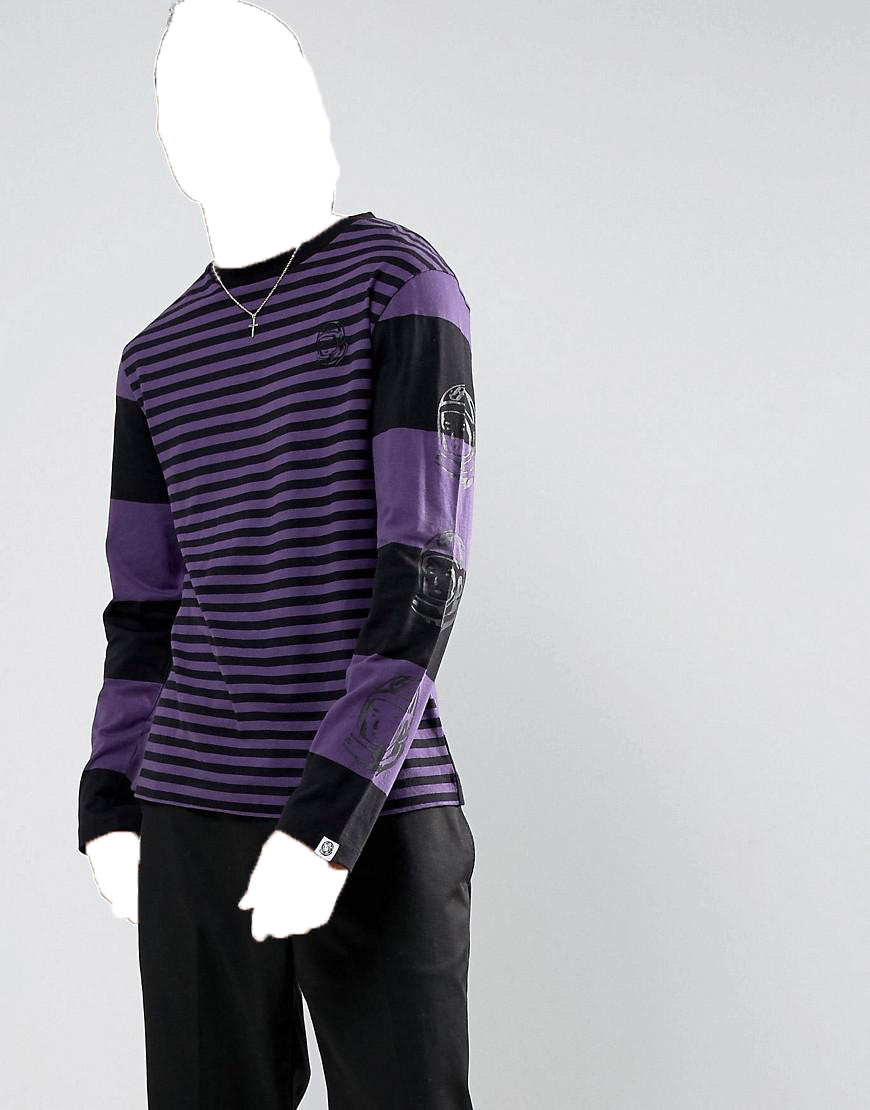teeshirt: (74, 215, 534, 851)
